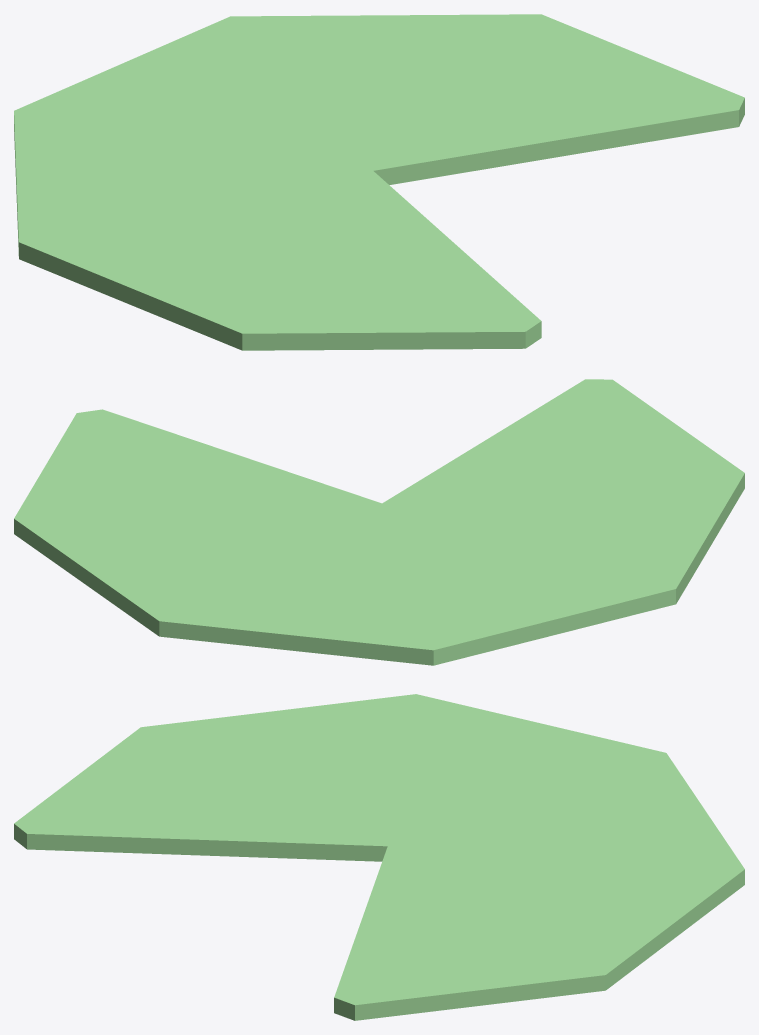
File: Lillypad_SM.fbx
3 renders of one model, top to bottom at view 1: azimuth 30°, elevation 25°; view 2: azimuth 150°, elevation 25°; view 3: azimuth 270°, elevation 25°, orthographic. The views are drawn at different scales.
Visible parts, largest first — view 1: Lillypad_SM; view 2: Lillypad_SM; view 3: Lillypad_SM.
Boxes of the visible parts, x1,y1,x2,y2 form: Lillypad_SM: (14, 14, 744, 350); Lillypad_SM: (14, 379, 744, 665); Lillypad_SM: (14, 694, 744, 1020).
Size of the model in its own units: 38.75 by 0.9077 by 38.46.
